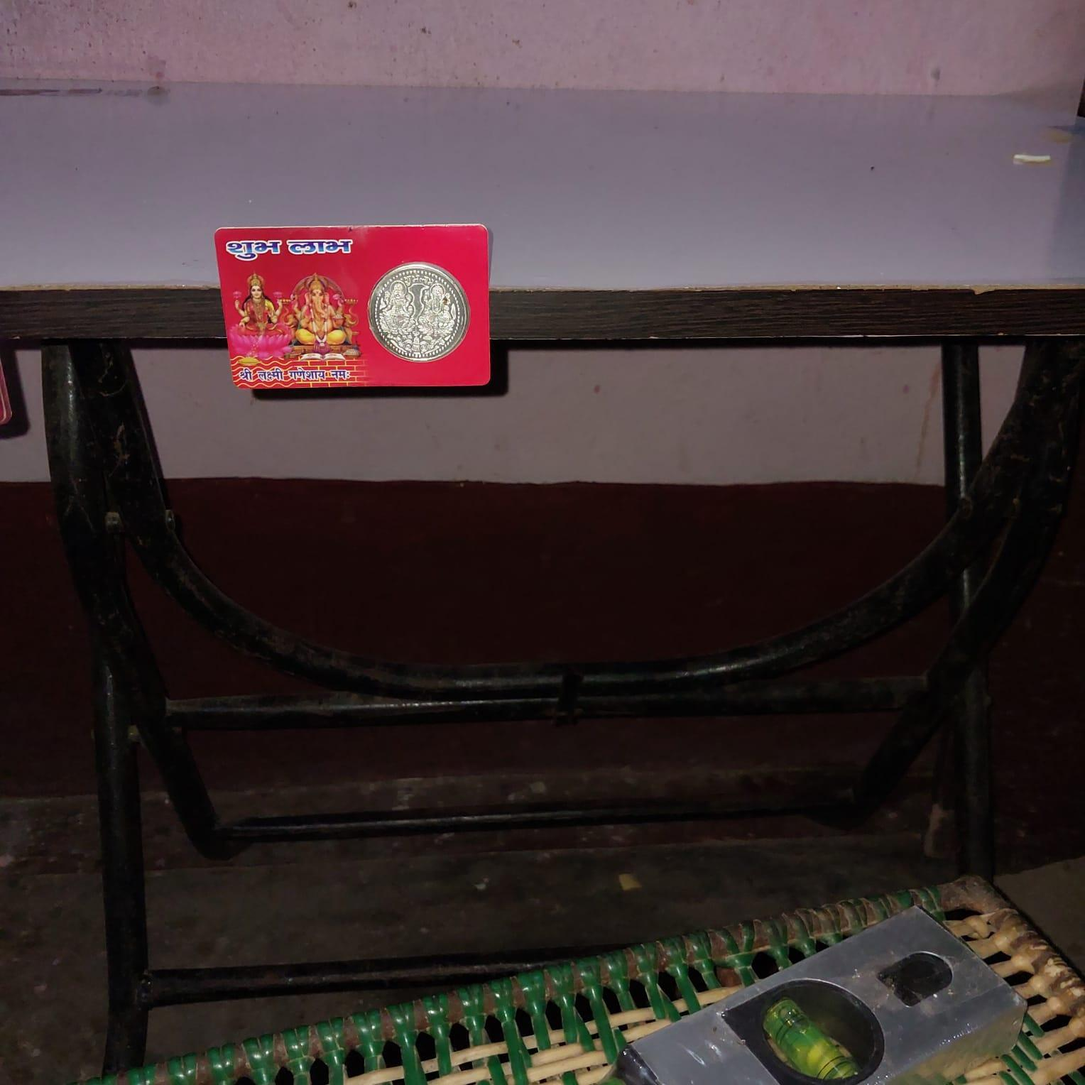blessing_card: (213, 213, 497, 393)
